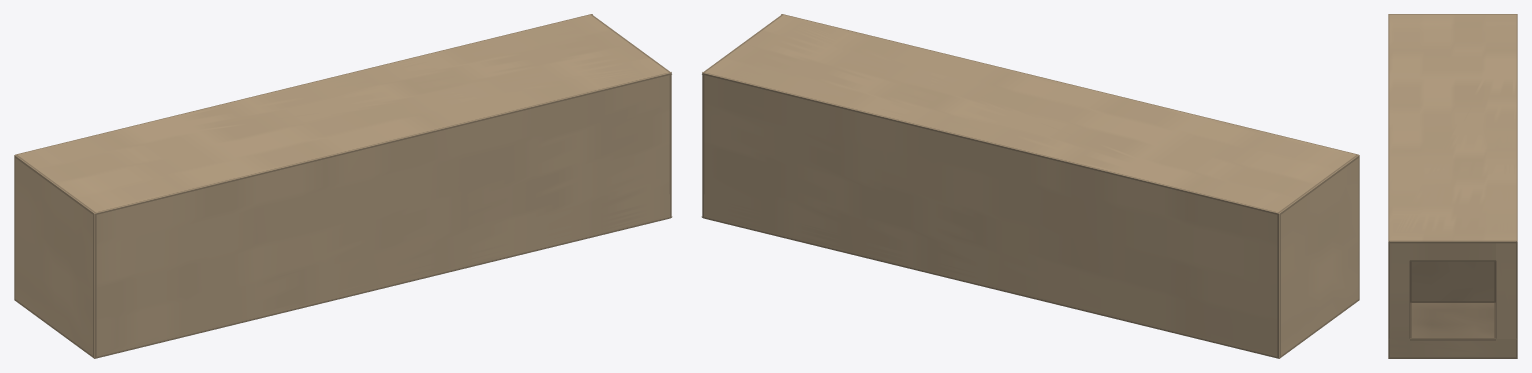
3 renders of one model, left to right at view 1: azimuth 30°, elevation 25°; view 2: azimuth 150°, elevation 25°; view 3: azimuth 270°, elevation 25°, orthographic. The views are drawn at different scales.
Parts seen in each view (by area): view 1: part-b; view 2: part-b; view 3: part-b.
Part boxes in pixels (bbox=[...]): part-b: bbox=[14, 14, 672, 358]; part-b: bbox=[701, 14, 1359, 358]; part-b: bbox=[1388, 14, 1517, 358].
Size of the model in its own units: 0.5016 by 0.1211 by 0.1208.
